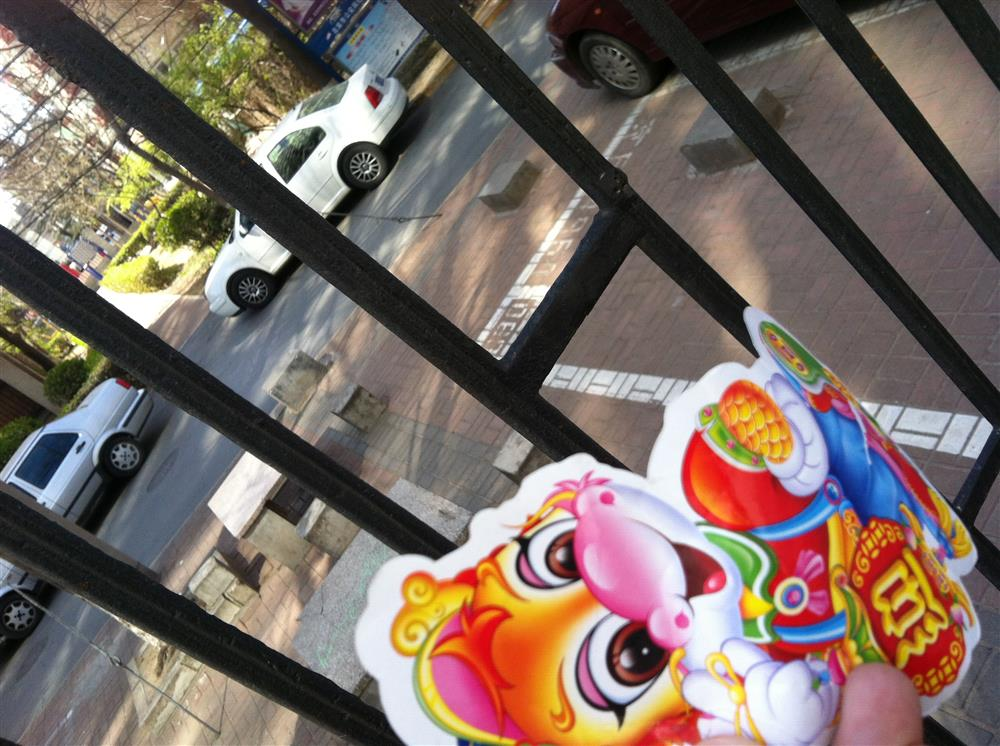new_year_pic: (355, 302, 982, 741)
